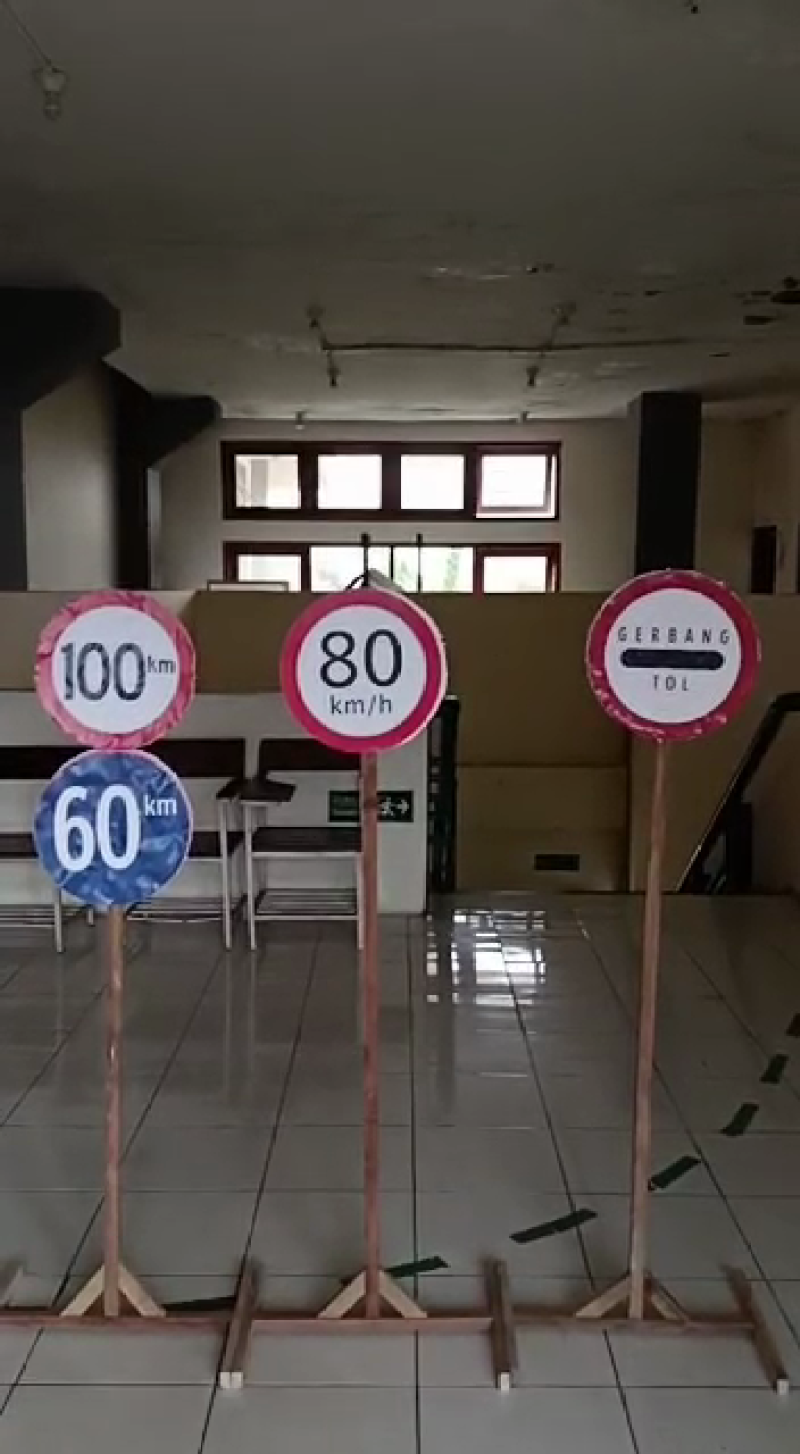batas maksimal 100kmperjam minimal 60kmperjam: (29, 570, 196, 924)
batas maksimal 80kmperjam: (272, 574, 448, 755)
gerbang tol: (587, 559, 750, 735)
